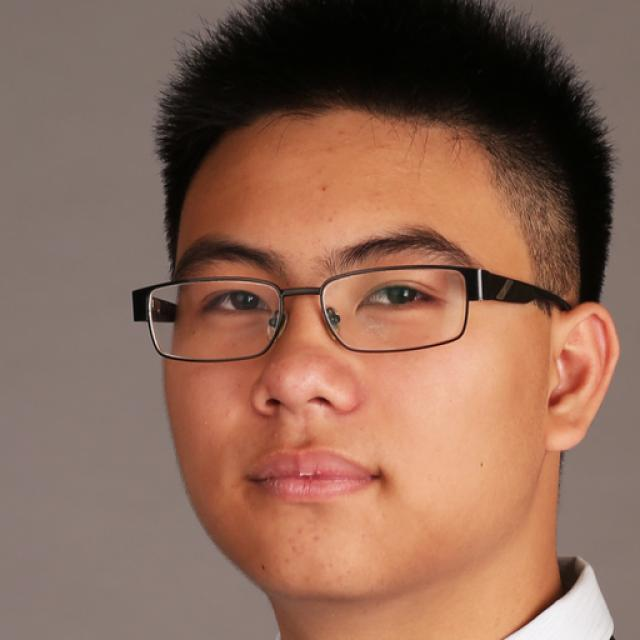Acne: (308, 173, 335, 200)
